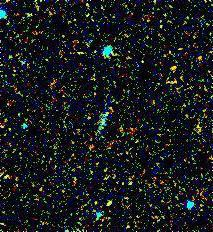star: (154, 52, 184, 82)
